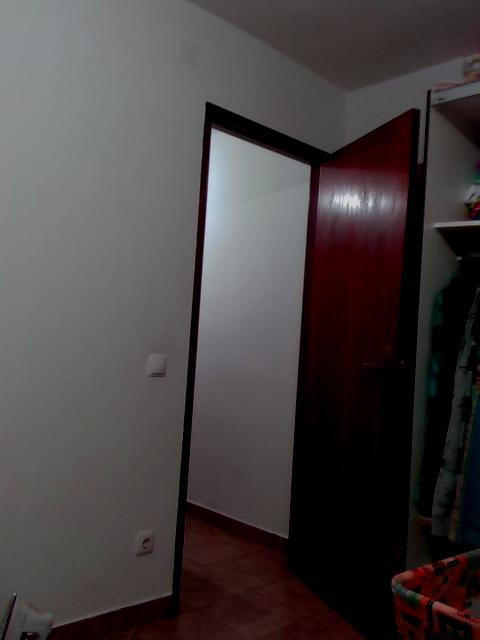open_door: (171, 94, 346, 623)
